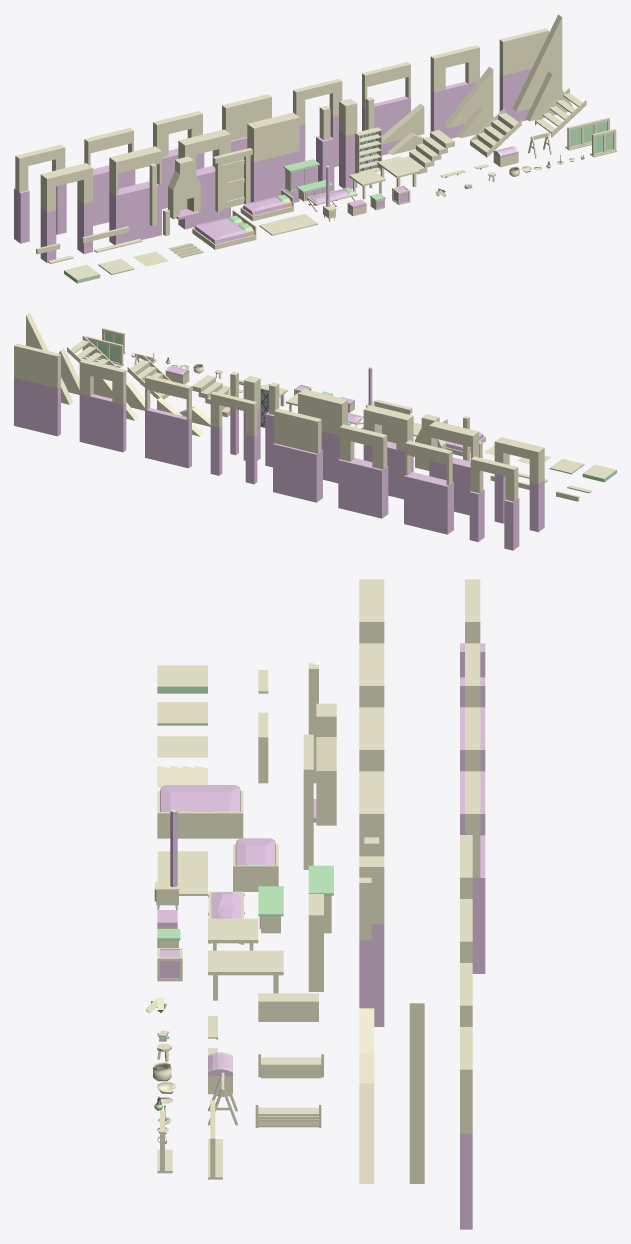
Rendered from old_town.glb.
3 renders of one model, top to bottom at view 1: azimuth 30°, elevation 25°; view 2: azimuth 150°, elevation 25°; view 3: azimuth 270°, elevation 25°, orthographic. The views are drawn at different scales.
Visible parts, largest first — view 1: Wall A Window Large.001, Wall A Plain.001, Wall A Door.001, Wall C Window Small.001, Wall C.001, Wall B Door.001, Wall A Window Small.001, Wall B Window Large.001, Wall C Window Large.001, Wall Roof 60.001, Wall B Window Small.001, Wall C Door.001 (+28 smaller); view 2: Wall B.001, Wall B Window Small.001, Wall C.001, Wall C Window Small.001, Wall B Window Large.001, Wall C Window Large.001, Wall B Door.001, Wall A Door.001, Wall C Door.001, Wall A Window Small.001, Wall A Plain.001, Wall A Window Large.001 (+14 smaller); view 3: Bed Double.001, Wall B.001, Fireplace.001, Wall C.001, Wall Pillar A.001, Wall Roof 60.001, Bed Single.001, Table Large.001, Wall A Plain.001, Board.001, Stairs Block.001, Wall B Door.001 (+23 smaller).
Boxes of the visible parts, x1,y1,x2,y2 form: Wall A Window Large.001: [109, 146, 161, 244]; Wall A Plain.001: [247, 112, 299, 202]; Wall A Door.001: [40, 163, 92, 262]; Wall C Window Small.001: [430, 45, 479, 138]; Wall C.001: [499, 28, 548, 121]; Wall B Door.001: [14, 144, 66, 243]; Wall A Window Small.001: [178, 129, 230, 229]; Wall B Window Large.001: [84, 128, 135, 225]; Wall C Window Large.001: [362, 62, 410, 155]; Wall Roof 60.001: [512, 14, 562, 111]; Wall B Window Small.001: [153, 111, 204, 209]; Wall C Door.001: [293, 79, 342, 166]; Wall B.001: [273, 408, 322, 502]; Wall B Window Small.001: [338, 424, 388, 518]; Wall C.001: [14, 343, 60, 436]; Wall C Window Small.001: [79, 359, 126, 452]; Wall B Window Large.001: [404, 440, 453, 534]; Wall C Window Large.001: [145, 375, 191, 468]; Wall B Door.001: [469, 456, 519, 550]; Wall A Door.001: [494, 437, 544, 532]; Wall C Door.001: [210, 391, 257, 484]; Wall A Window Small.001: [363, 405, 413, 499]; Wall A Plain.001: [298, 389, 347, 483]; Wall A Window Large.001: [429, 421, 479, 515]; Bed Double.001: [157, 785, 243, 838]; Wall B.001: [465, 771, 485, 973]; Fireplace.001: [313, 703, 336, 825]; Wall C.001: [460, 1027, 472, 1229]; Wall Pillar A.001: [359, 856, 384, 1026]; Wall Roof 60.001: [409, 1025, 424, 1183]; Bed Single.001: [233, 838, 278, 891]; Table Large.001: [208, 950, 283, 1000]; Wall A Plain.001: [359, 771, 384, 856]; Board.001: [157, 851, 207, 895]; Stairs Block.001: [258, 993, 318, 1021]; Wall B Door.001: [460, 579, 485, 707].
Size of what is drawn, in the model's own units: 24 by 4.46 by 6.73.
Materials: 16 (2 with a texture image).
